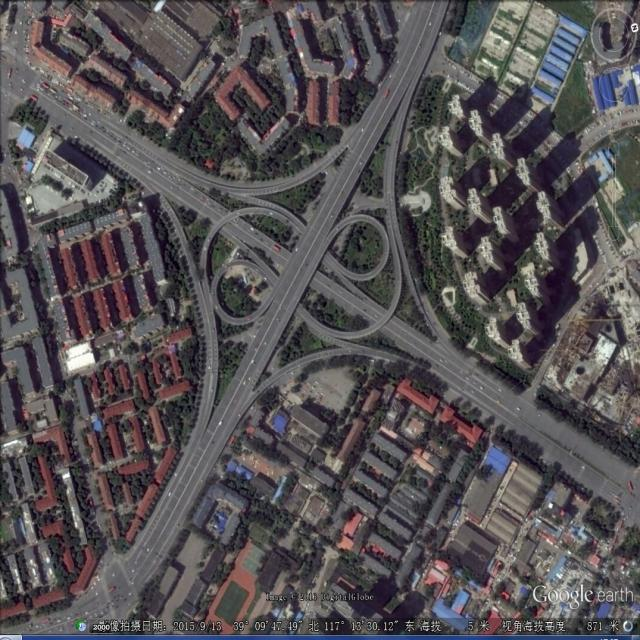overpass: (142, 85, 452, 445)
